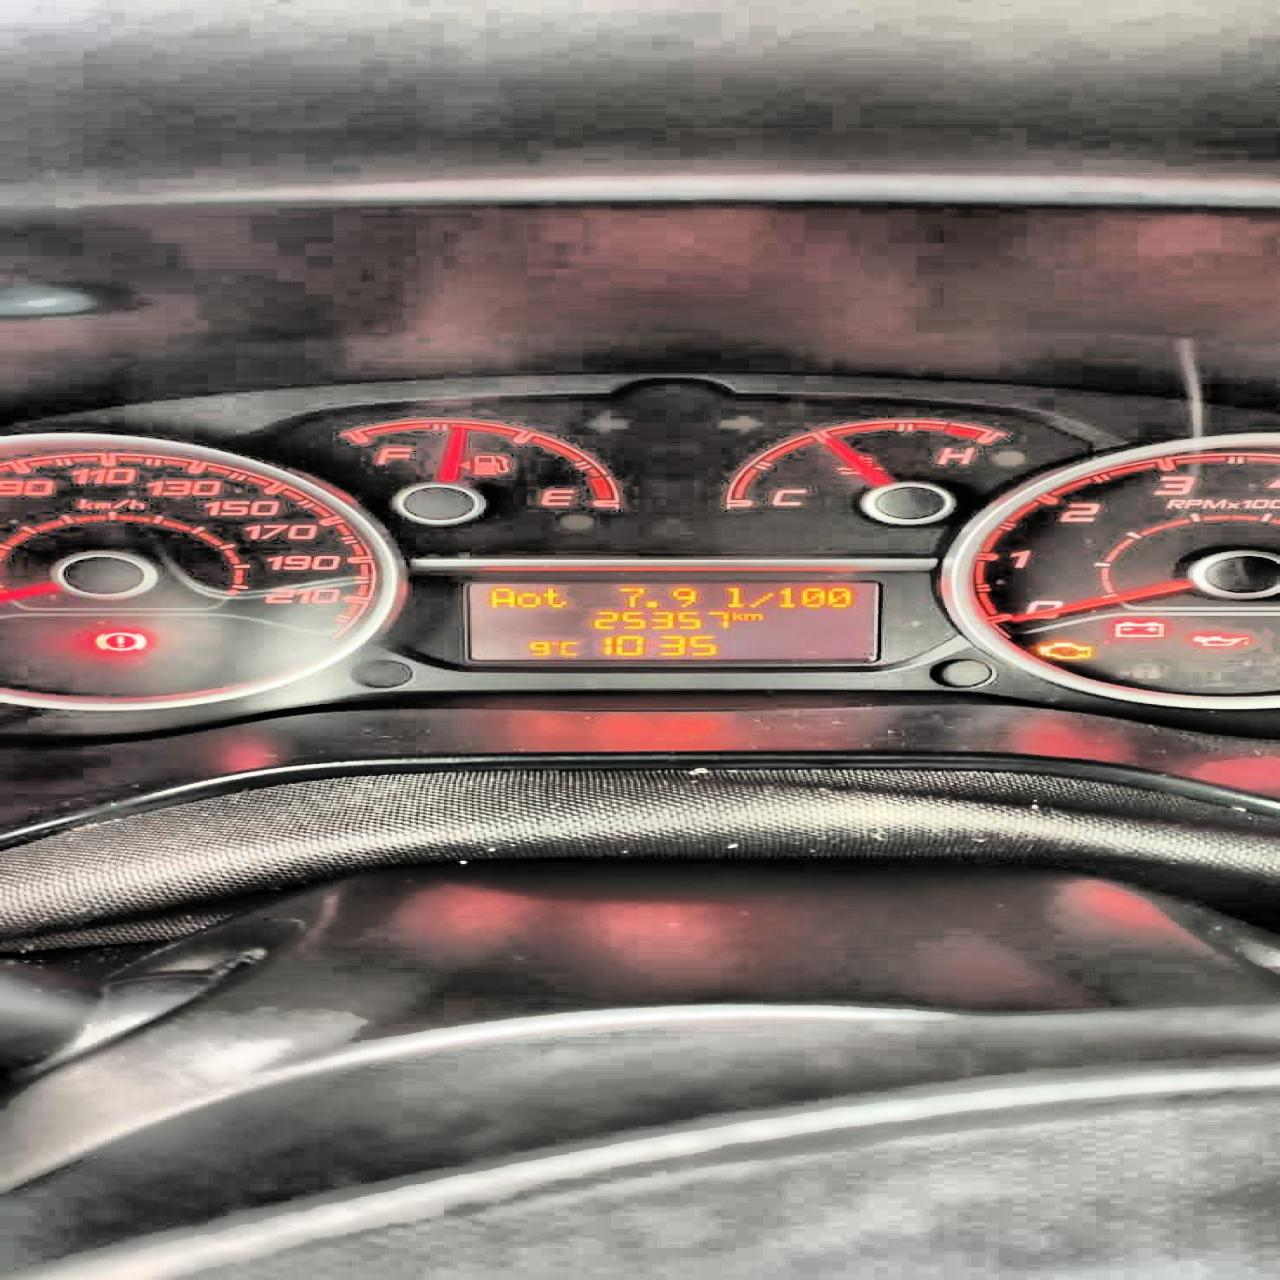-: (644, 600, 655, 608)
0: (614, 634, 644, 655), (824, 586, 851, 607), (798, 586, 824, 607)
1: (776, 586, 795, 607), (600, 635, 612, 654)
2: (592, 611, 618, 628)
3: (658, 634, 685, 655), (648, 611, 673, 628)
5: (685, 634, 716, 655), (674, 611, 701, 628), (619, 611, 644, 628)
7: (618, 587, 644, 607), (706, 611, 728, 628)
9: (668, 587, 697, 607), (527, 640, 550, 655)
X: (486, 587, 515, 607), (542, 587, 567, 607), (515, 592, 542, 607), (726, 586, 744, 607), (748, 591, 770, 607), (558, 640, 578, 655), (742, 613, 763, 620), (729, 611, 742, 620)
odometer: (458, 578, 884, 666)
